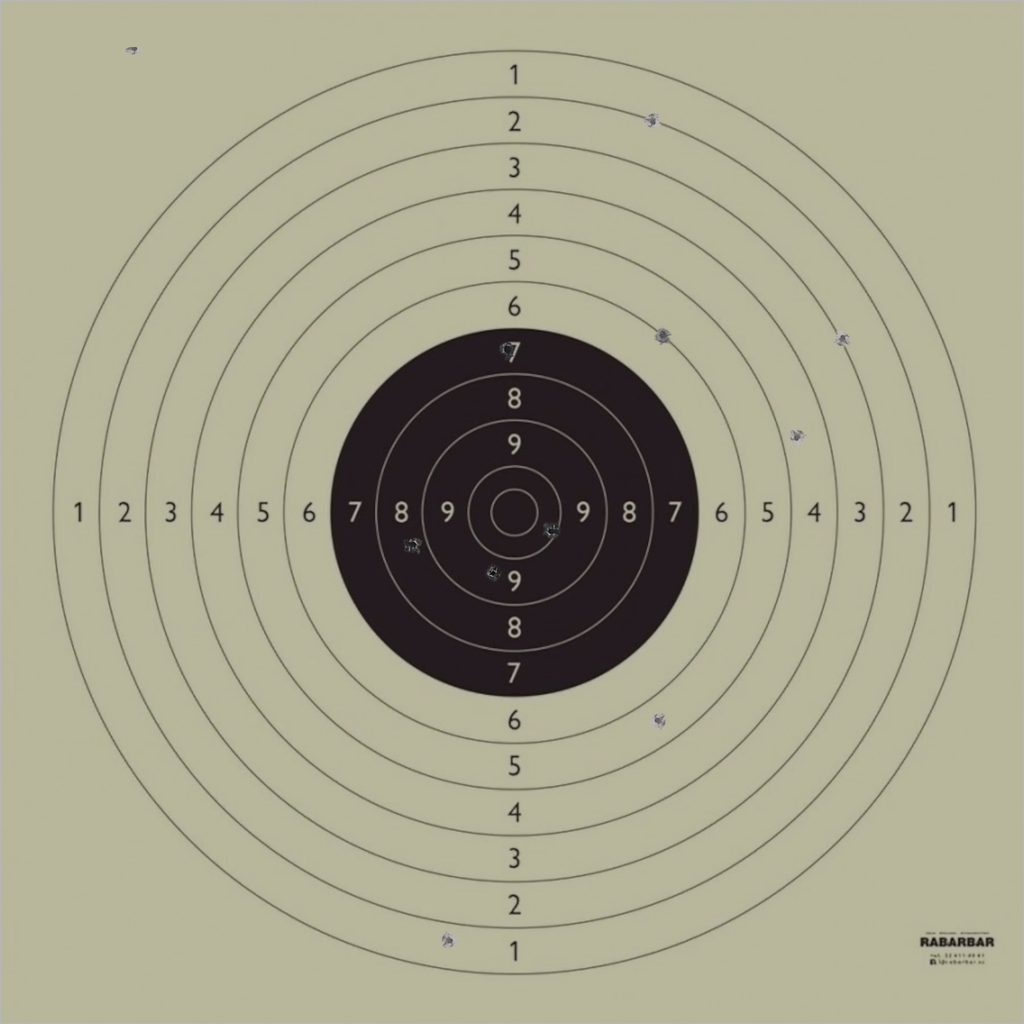0 punktow: (124, 39, 143, 57)
1 punkt: (440, 931, 458, 950)
10 punktow: (542, 522, 561, 540)
2 punkty: (643, 112, 662, 131)
3 punkty: (833, 330, 852, 348)
4 punkty: (788, 428, 806, 446)
5 punktow: (649, 711, 668, 730)
6 punktow: (654, 326, 672, 345)
7 punktow: (498, 341, 516, 359)
8 punktow: (403, 536, 421, 554)
9 punktow: (484, 564, 502, 583)
